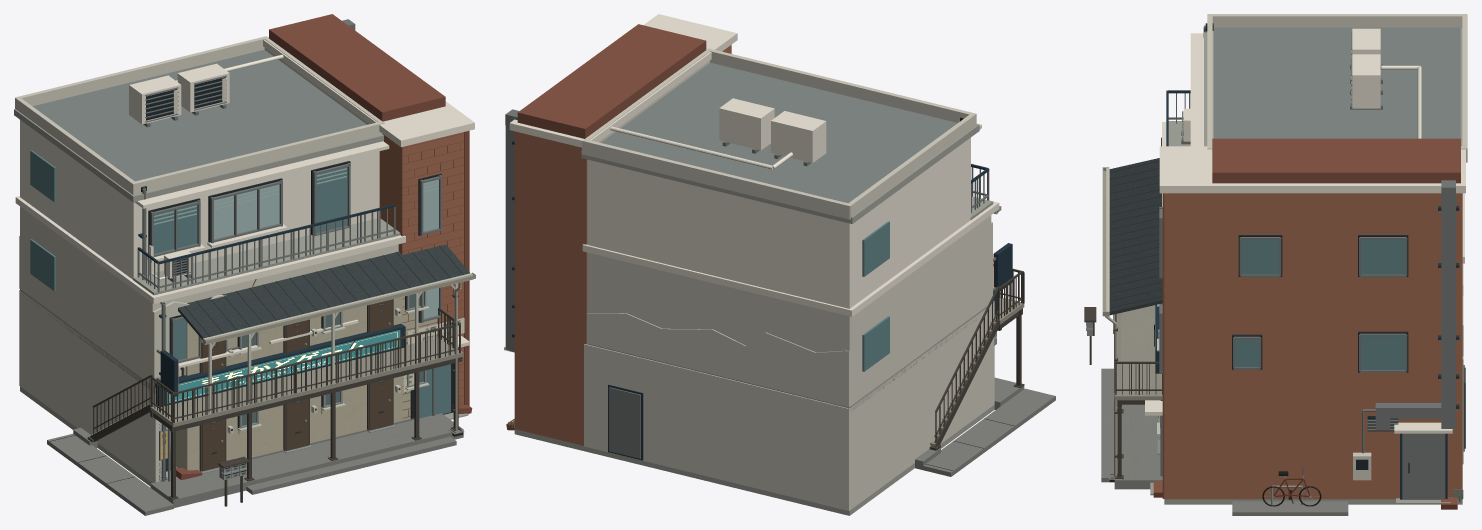
The model's file is neighborhood_00.glb.
The picture shows the model from 3 angles, left to right: view 1: azimuth 30°, elevation 25°; view 2: azimuth 150°, elevation 25°; view 3: azimuth 270°, elevation 25°; orthographic projection. The views are drawn at different scales.
Parts seen in each view (by area): view 1: tokyo_arcade_normal_runtime_opaque, normal_runtime_opaque, tokyo_arcade_wreck_runtime_opaque, wreck_runtime_opaque, tokyo_arcade_normal_runtime_glazing, tokyo_arcade_lod2_runtime_emission, lod2_runtime_opaque, lod1_runtime_opaque, tokyo_arcade_lod2_runtime_opaque, tokyo_arcade_lod1_runtime_opaque; view 2: tokyo_arcade_normal_runtime_opaque, tokyo_arcade_wreck_runtime_opaque, normal_runtime_opaque, wreck_runtime_opaque, tokyo_arcade_normal_runtime_glazing; view 3: tokyo_arcade_normal_runtime_opaque, normal_runtime_opaque, wreck_runtime_opaque, tokyo_arcade_normal_runtime_glazing, tokyo_arcade_wreck_runtime_opaque, tokyo_arcade_wreck_runtime_glazing, lod1_runtime_opaque.
Boxes of the visible parts, bbox=[...] form: tokyo_arcade_normal_runtime_opaque: bbox=[14, 14, 474, 481]; normal_runtime_opaque: bbox=[47, 244, 475, 515]; tokyo_arcade_wreck_runtime_opaque: bbox=[19, 236, 472, 486]; wreck_runtime_opaque: bbox=[47, 308, 463, 515]; tokyo_arcade_normal_runtime_glazing: bbox=[30, 150, 450, 444]; tokyo_arcade_lod2_runtime_emission: bbox=[167, 330, 400, 403]; lod2_runtime_opaque: bbox=[162, 288, 461, 423]; lod1_runtime_opaque: bbox=[159, 288, 458, 423]; tokyo_arcade_lod2_runtime_opaque: bbox=[137, 188, 395, 304]; tokyo_arcade_lod1_runtime_opaque: bbox=[143, 56, 378, 349]; tokyo_arcade_normal_runtime_opaque: bbox=[504, 14, 1012, 510]; tokyo_arcade_wreck_runtime_opaque: bbox=[504, 221, 1012, 515]; normal_runtime_opaque: bbox=[915, 206, 1055, 476]; wreck_runtime_opaque: bbox=[915, 270, 1055, 476]; tokyo_arcade_normal_runtime_glazing: bbox=[862, 221, 889, 371]; tokyo_arcade_normal_runtime_opaque: bbox=[1145, 14, 1467, 504]; normal_runtime_opaque: bbox=[1084, 158, 1348, 515]; wreck_runtime_opaque: bbox=[1084, 307, 1348, 515]; tokyo_arcade_normal_runtime_glazing: bbox=[1235, 239, 1405, 369]; tokyo_arcade_wreck_runtime_opaque: bbox=[1150, 263, 1465, 509]; tokyo_arcade_wreck_runtime_glazing: bbox=[1361, 336, 1405, 369]; lod1_runtime_opaque: bbox=[1107, 318, 1320, 506].
Bounding box in the file's own units: 14.1 × 11.54 × 11.56.
5 materials, 5 textured.
